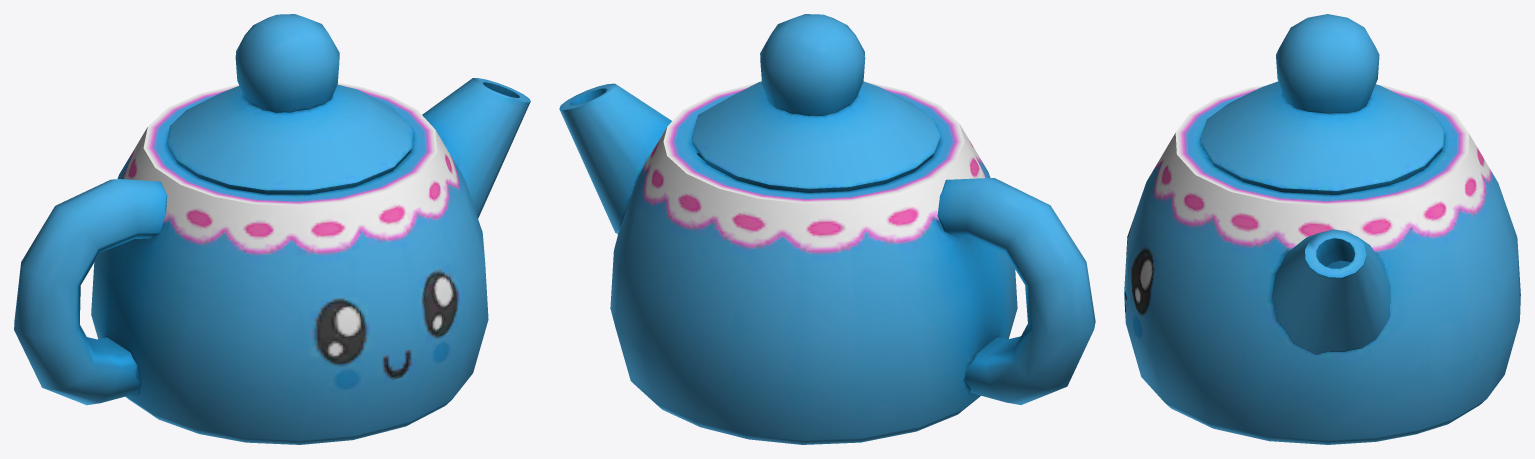
Rendered from 0-teapot_blue.fbx.
3 views of the same model, side by side, from view 1: azimuth 30°, elevation 25°; view 2: azimuth 150°, elevation 25°; view 3: azimuth 270°, elevation 25° (orthographic).
Visible parts, largest first — view 1: 0-teapot_blue; view 2: 0-teapot_blue; view 3: 0-teapot_blue.
Part boxes in pixels (bbox=[...]): 0-teapot_blue: bbox=[14, 14, 530, 444]; 0-teapot_blue: bbox=[559, 14, 1095, 444]; 0-teapot_blue: bbox=[1124, 14, 1520, 444].
Bounding box in the file's own units: 89.97 × 58.61 × 59.49.
